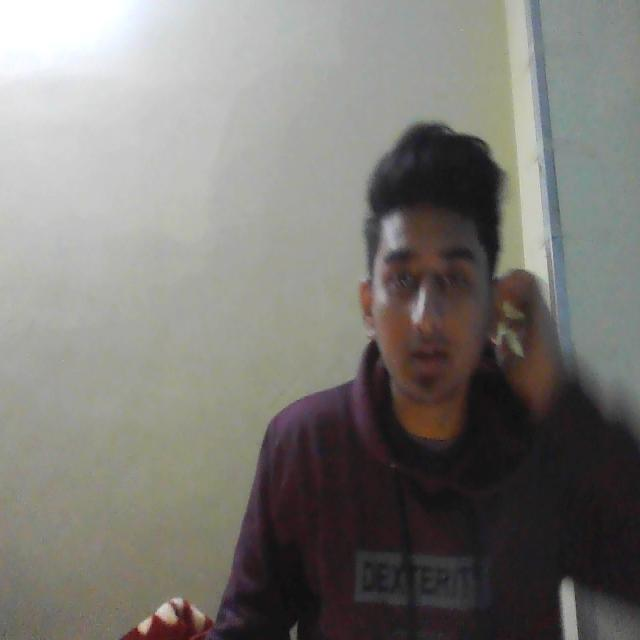real: (359, 133, 521, 439)
